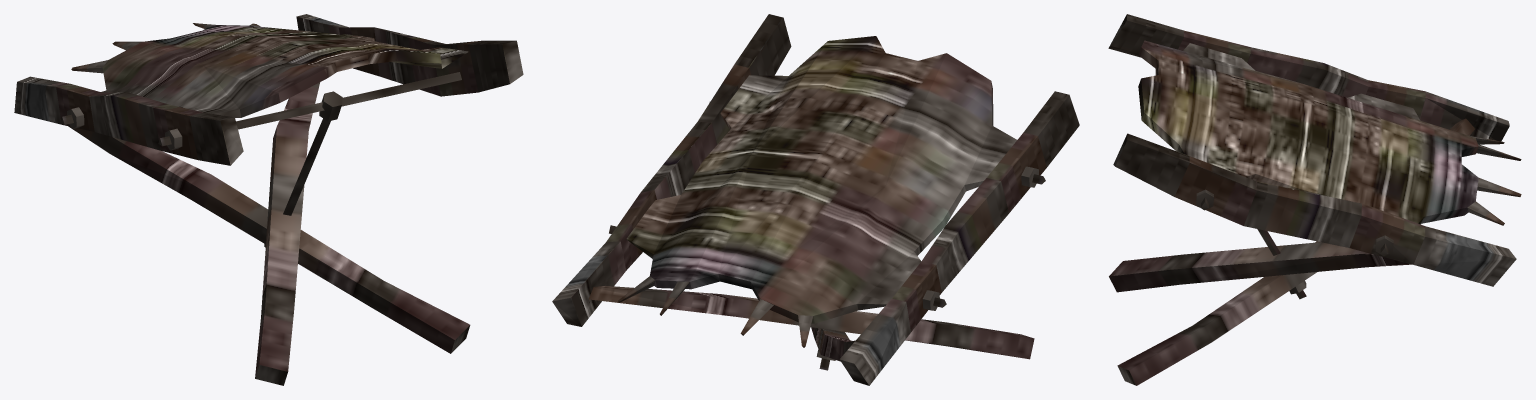
Rendered from IronBarriCade.fbx.
3 renders of one model, left to right at view 1: azimuth 30°, elevation 25°; view 2: azimuth 150°, elevation 25°; view 3: azimuth 270°, elevation 25°, orthographic. The views are drawn at different scales.
Visible parts, largest first — view 1: Component1; view 2: Component1; view 3: Component1.
Part boxes in pixels (left/top/right/bottom): Component1: left=14, top=14, right=523, bottom=385; Component1: left=552, top=14, right=1079, bottom=385; Component1: left=1108, top=14, right=1521, bottom=385.
Size of the model in its own units: 13.21 by 11.76 by 15.62.
